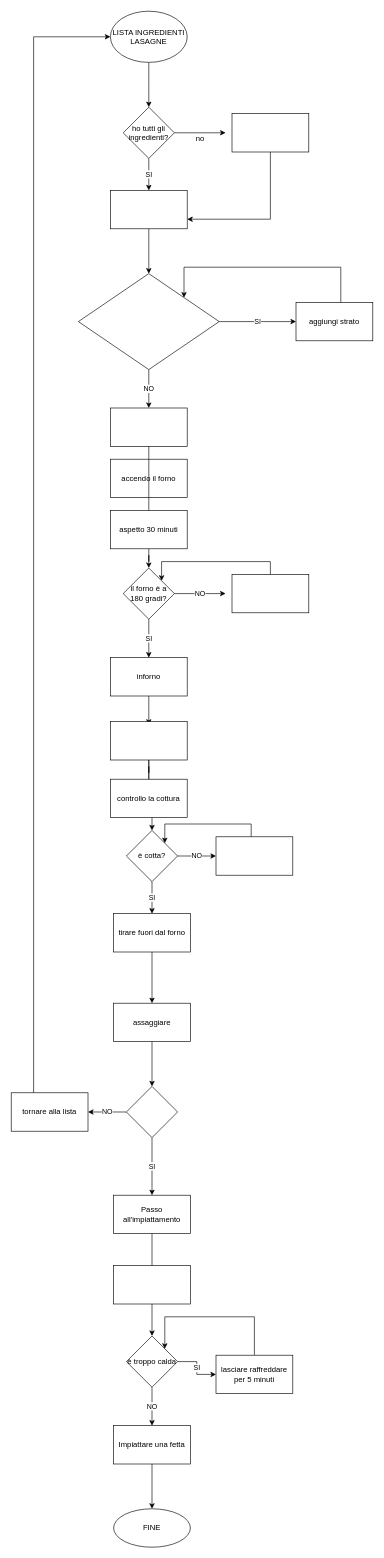
This 384x1558 diagram has some shape labels left out. The centre of each missing label's shape, as x and y in pixels:
"aspetto 10 minuti e ricontrollo" goes at (x=270, y=593).
"aspetto 120 minuti" goes at (x=148, y=740).
"ho abbastanza ragu AND besciamella AND pasta?" goes at (x=148, y=321).
"passa alla cottura" goes at (x=148, y=426).
"procedo all'assemblaggio" goes at (x=148, y=209).
"rinfornare per 10 minuti e ricontrollare" goes at (x=254, y=855).
"vado al supermercato" goes at (x=270, y=132).
"è buona come quella della nonna?" goes at (x=152, y=1112).
